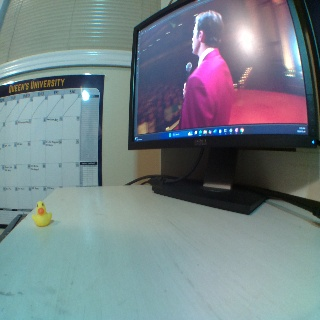duck_regular: (32, 200, 52, 227)
